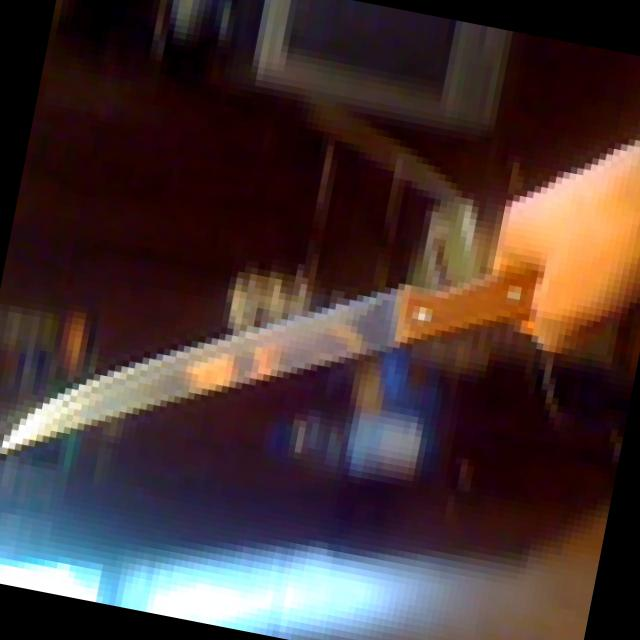knife: (0, 133, 609, 566)
